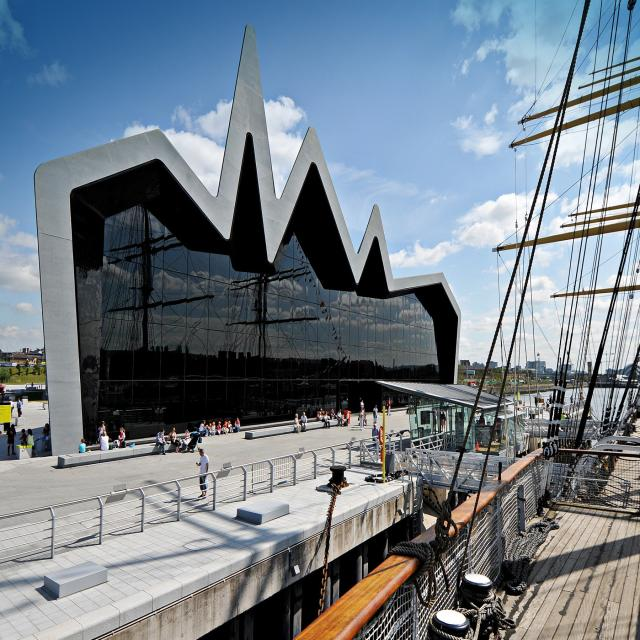body: (214, 392, 339, 417), (93, 402, 170, 430), (195, 448, 210, 499), (33, 422, 51, 449), (382, 391, 415, 404), (155, 428, 170, 456), (25, 428, 38, 458), (166, 427, 181, 453), (466, 372, 502, 382), (6, 423, 16, 456), (98, 420, 106, 451), (99, 430, 110, 451), (118, 426, 126, 454), (372, 424, 379, 456), (336, 408, 347, 427), (357, 408, 366, 431), (198, 419, 208, 438), (293, 412, 301, 434), (182, 428, 190, 448), (300, 412, 308, 432), (496, 417, 502, 443), (19, 428, 28, 444), (432, 408, 438, 432), (323, 412, 330, 430), (16, 398, 22, 418), (78, 438, 86, 453), (360, 408, 366, 428), (478, 412, 485, 428), (441, 410, 446, 432), (9, 398, 14, 418), (222, 420, 229, 434), (234, 417, 240, 433), (329, 408, 337, 420), (227, 420, 234, 433), (413, 397, 418, 414), (405, 402, 412, 414), (532, 394, 538, 408), (211, 421, 216, 436), (216, 421, 221, 436), (373, 410, 378, 425), (221, 423, 227, 435), (345, 410, 349, 427), (208, 422, 212, 437), (373, 404, 378, 416), (579, 391, 583, 405), (319, 412, 324, 423), (360, 399, 365, 410), (486, 420, 491, 431), (558, 396, 562, 409), (325, 410, 330, 420), (316, 410, 320, 422), (388, 404, 392, 416), (548, 393, 552, 405), (570, 395, 574, 407), (387, 397, 391, 408), (560, 412, 566, 419), (522, 402, 526, 412), (542, 402, 546, 412), (546, 399, 550, 408), (386, 400, 389, 411), (25, 381, 29, 389), (319, 408, 323, 416), (324, 408, 328, 416), (418, 398, 421, 408), (566, 413, 570, 419), (498, 392, 500, 403), (0, 430, 2, 441), (31, 382, 34, 388), (472, 383, 474, 390), (38, 384, 40, 390), (19, 378, 21, 383), (541, 404, 543, 407)
